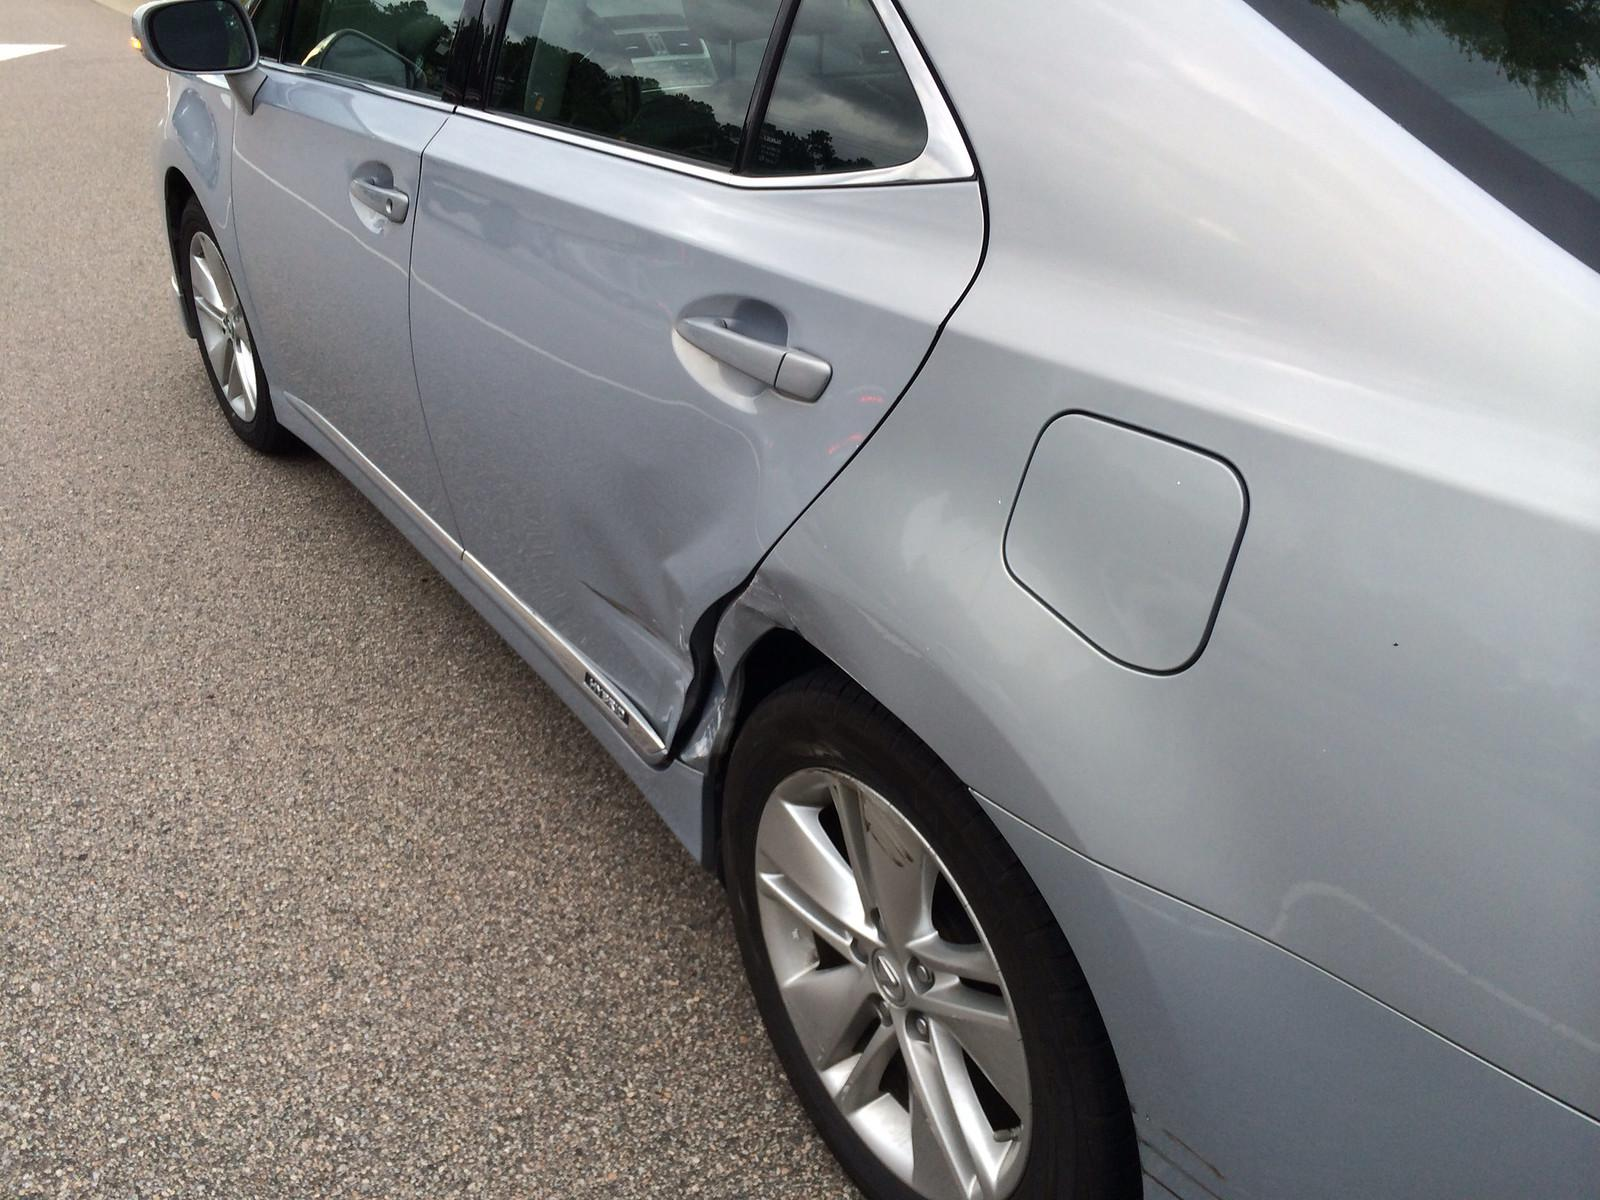doorouter-dent: (431, 130, 843, 800)
quaterpanel-dent: (975, 671, 1468, 1199)
